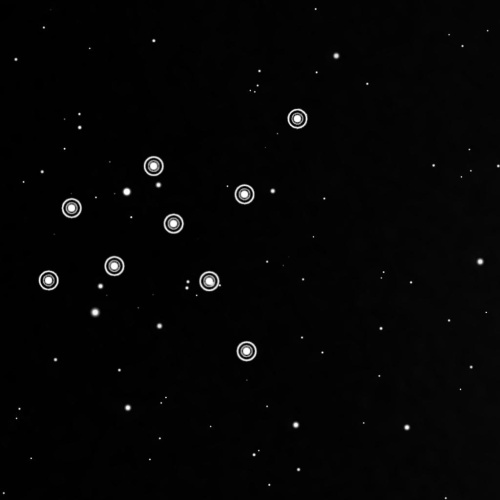cygnus: (34, 102, 311, 366)
